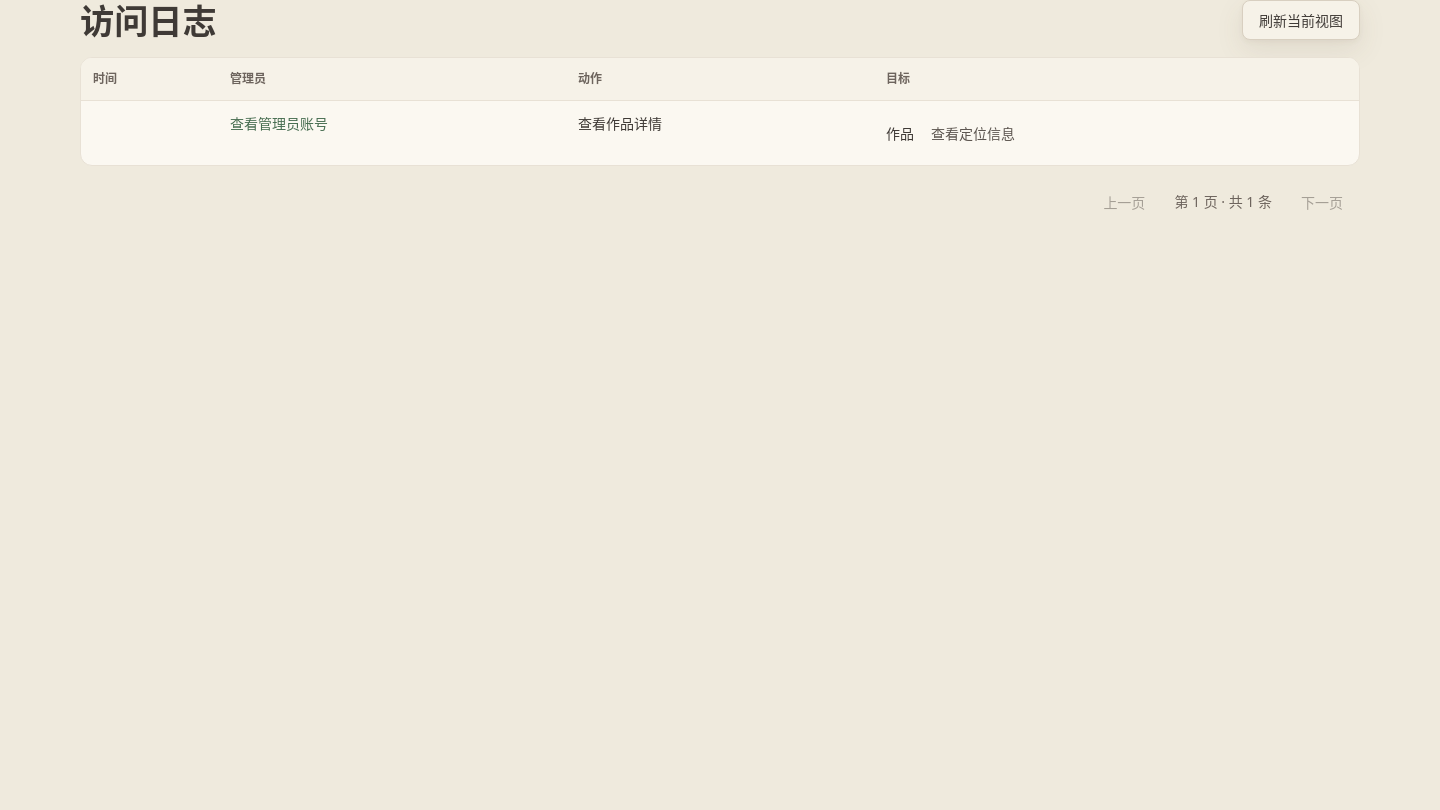
Scenario: shows log location details in a closable dialog instead of expanding a table row
Step 1. Click the button "查看定位信息" → point(973, 133), box [914, 113, 1032, 153]
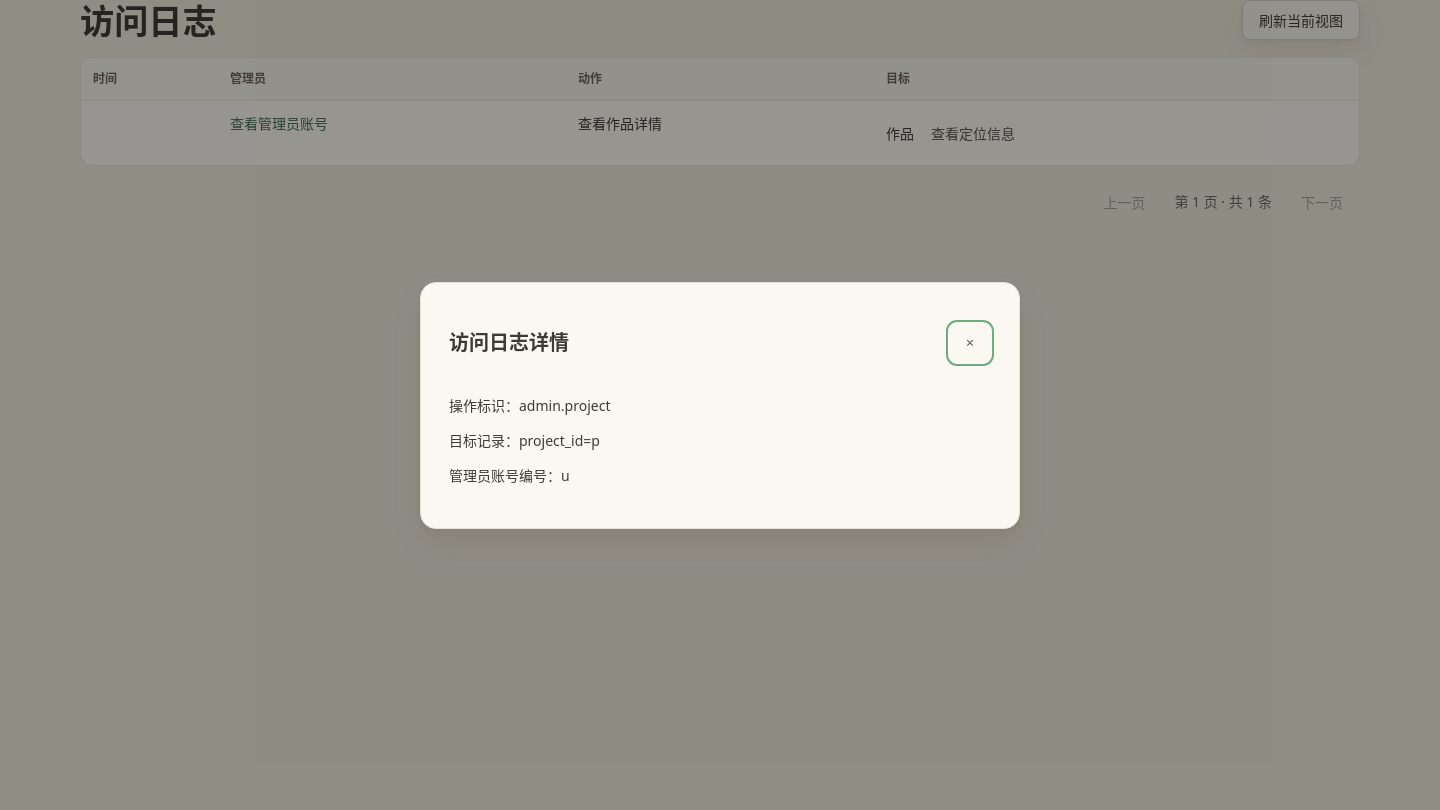
Expected: the dialog "访问日志详情" is shown, [420, 282, 1020, 528]
Step 2. Click the button named "关闭" → point(970, 342), box [949, 322, 991, 362]
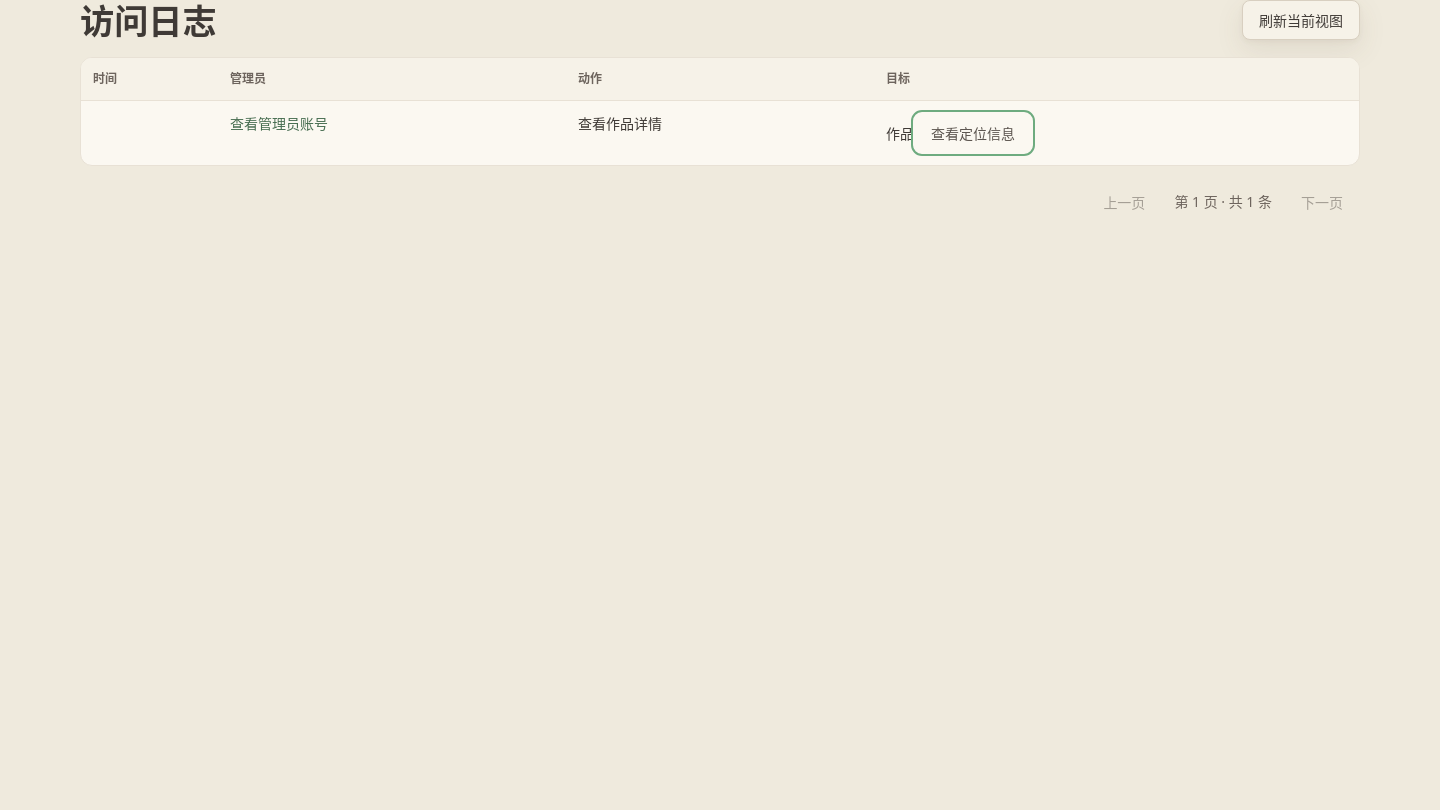
Expected: the dialog is gone
